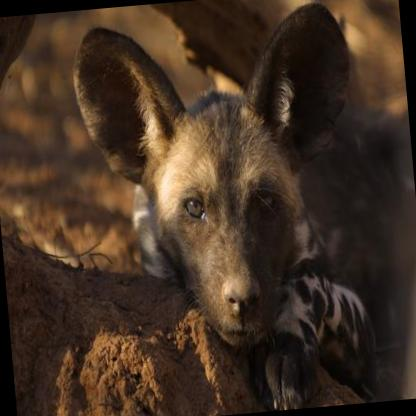African_hunting_dog: (65, 0, 390, 416)
